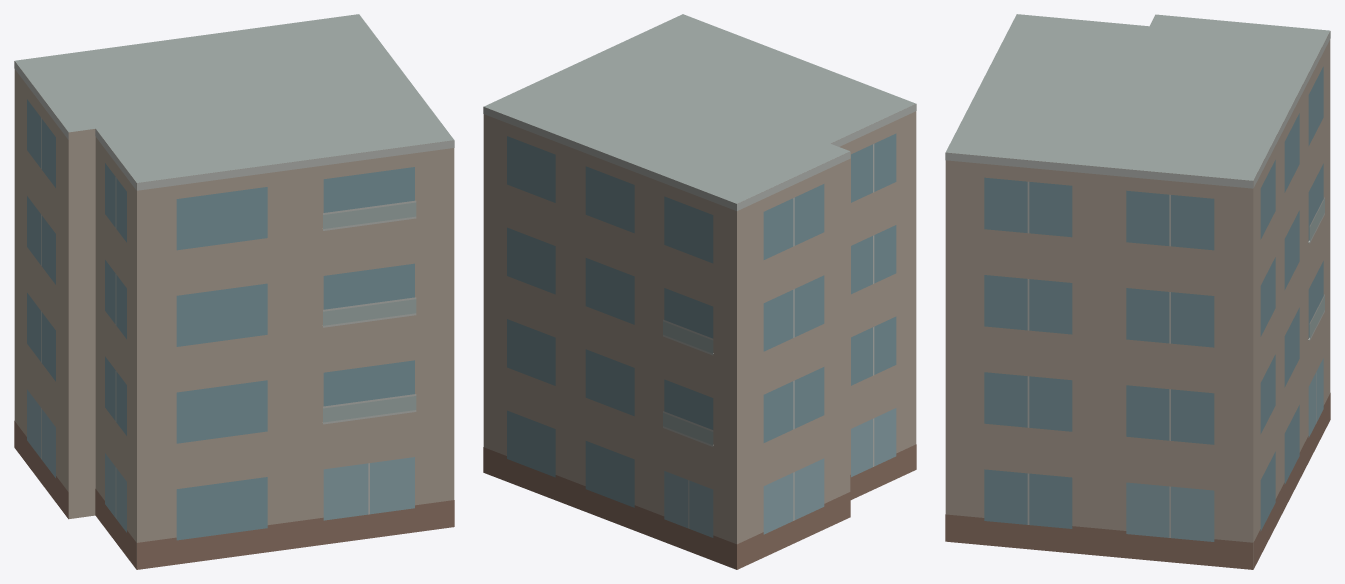
Rendered from residential-9403f442-c016-4e0e-9c0e-03e1f3923ec7.glb.
The picture shows the model from 3 angles, left to right: view 1: azimuth 30°, elevation 25°; view 2: azimuth 150°, elevation 25°; view 3: azimuth 270°, elevation 25°; orthographic projection. The views are drawn at different scales.
Visible parts, largest first — view 1: residential-9403f442-c016-4e0e-9c0e-03e1f3923ec7.tmp; view 2: residential-9403f442-c016-4e0e-9c0e-03e1f3923ec7.tmp; view 3: residential-9403f442-c016-4e0e-9c0e-03e1f3923ec7.tmp.
Part boxes in pixels (x1,y1,x2,y2): residential-9403f442-c016-4e0e-9c0e-03e1f3923ec7.tmp: [14, 14, 454, 569]; residential-9403f442-c016-4e0e-9c0e-03e1f3923ec7.tmp: [483, 14, 916, 569]; residential-9403f442-c016-4e0e-9c0e-03e1f3923ec7.tmp: [945, 14, 1330, 569].
Size of the model in its own units: 11.23 by 12.2 by 10.95.
